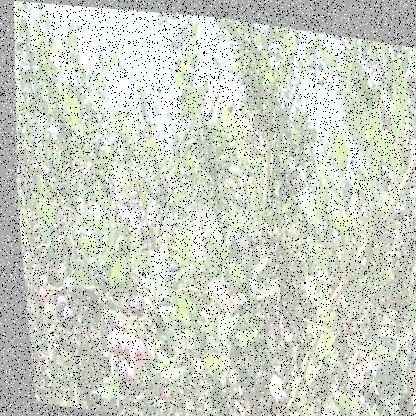intermediate: (103, 327, 130, 358), (120, 338, 143, 372), (401, 357, 416, 383), (33, 287, 48, 307)
mature: (122, 289, 146, 327), (54, 301, 75, 332), (396, 340, 416, 366), (390, 199, 406, 215), (18, 242, 25, 270)
young: (229, 170, 248, 200), (49, 259, 68, 288), (18, 249, 34, 275), (38, 302, 54, 324), (397, 208, 410, 229), (23, 310, 31, 334)
